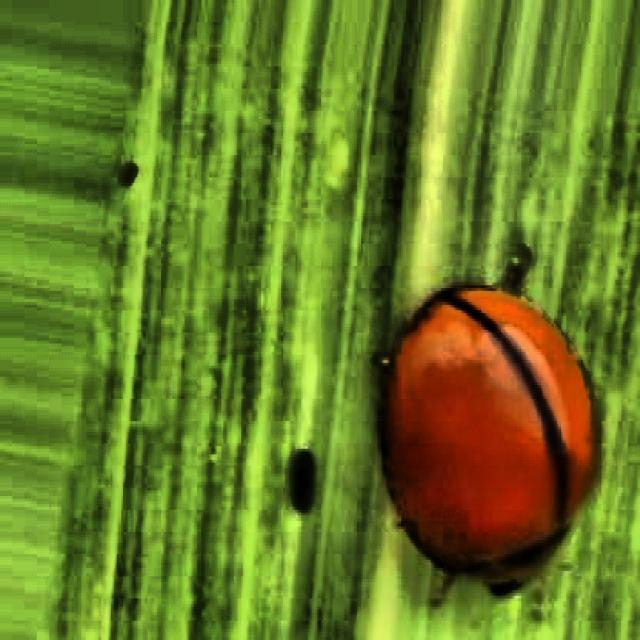Ladybug: (379, 221, 606, 620)
